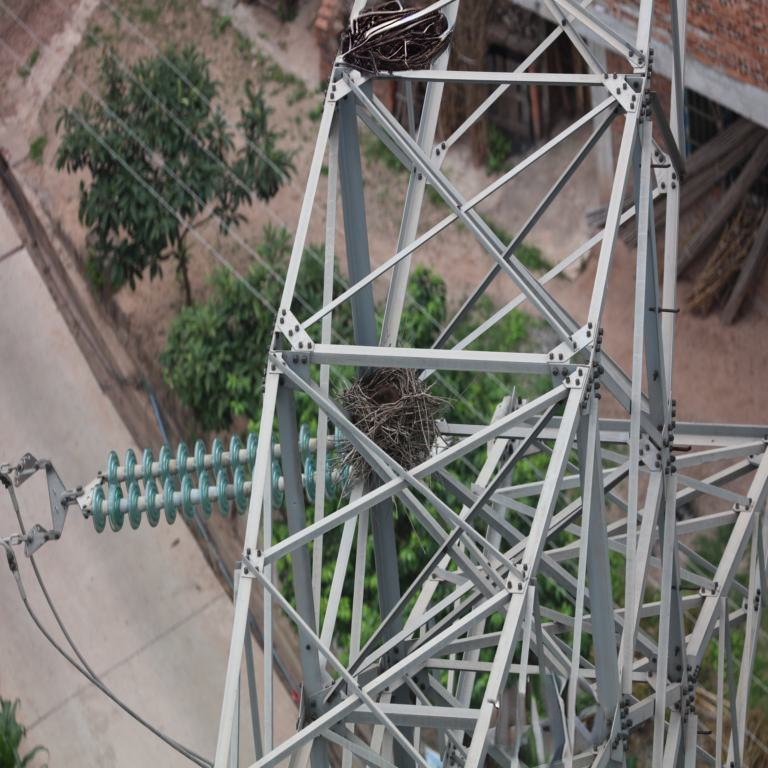nest: (337, 364, 444, 480), (337, 3, 448, 72)
